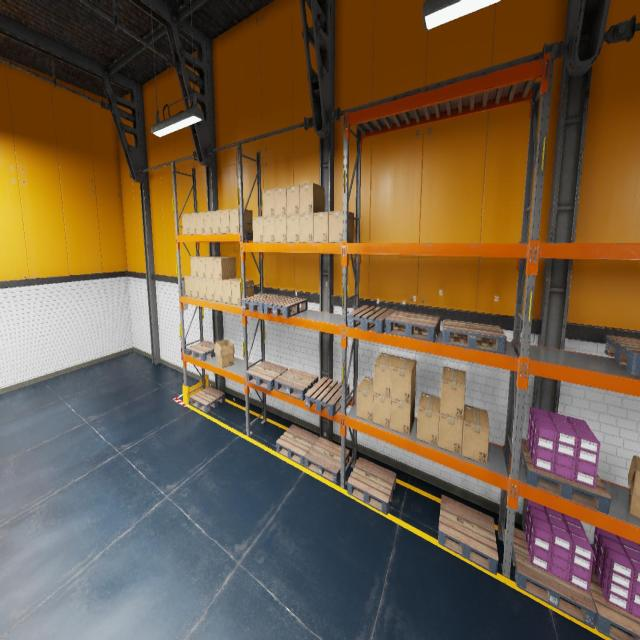box: (462, 404, 489, 464), (440, 366, 465, 420), (417, 392, 440, 447), (391, 356, 416, 404), (373, 352, 398, 398), (391, 390, 415, 436), (438, 413, 463, 455), (328, 210, 354, 242), (356, 376, 374, 422), (628, 455, 640, 519), (300, 182, 324, 214), (373, 393, 391, 428), (229, 208, 253, 234), (214, 339, 235, 368), (231, 279, 254, 305), (213, 256, 236, 280), (205, 257, 226, 279), (222, 278, 240, 303), (190, 256, 210, 277), (314, 212, 328, 242), (286, 185, 300, 214), (197, 256, 214, 278), (300, 214, 313, 242), (274, 215, 287, 242), (274, 187, 286, 216), (287, 214, 299, 242), (262, 188, 274, 216), (263, 216, 275, 242), (252, 216, 264, 242), (220, 209, 230, 234), (203, 211, 212, 233), (198, 278, 207, 299), (212, 210, 220, 233), (214, 280, 222, 302), (206, 278, 214, 300), (196, 212, 204, 234), (191, 278, 199, 298), (182, 213, 189, 235), (185, 275, 192, 296), (189, 213, 196, 234)
pallets: (512, 527, 596, 629), (520, 438, 612, 514), (438, 495, 498, 575), (589, 566, 640, 639), (347, 457, 396, 514), (442, 319, 506, 354), (305, 437, 349, 484), (276, 424, 318, 466), (385, 310, 440, 342), (305, 377, 349, 416), (604, 335, 640, 375), (274, 368, 318, 400), (348, 305, 395, 334), (246, 361, 288, 390), (264, 296, 308, 318), (190, 386, 225, 412), (241, 293, 284, 313), (186, 341, 215, 361)
